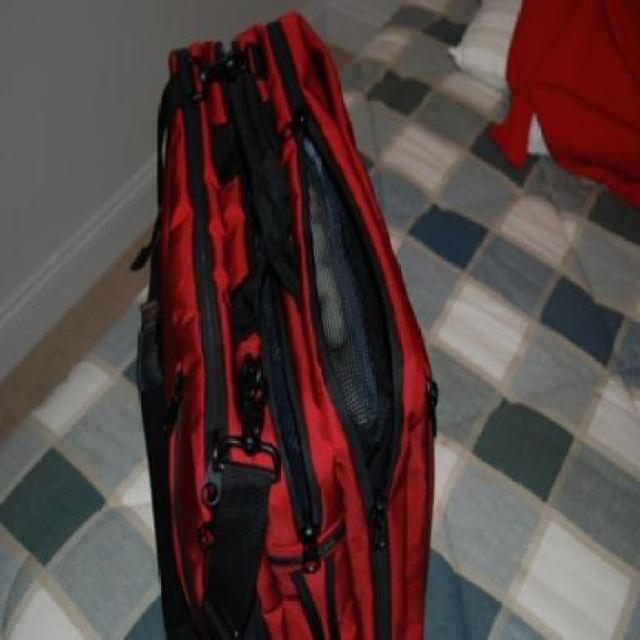backpack: (134, 0, 440, 640)
